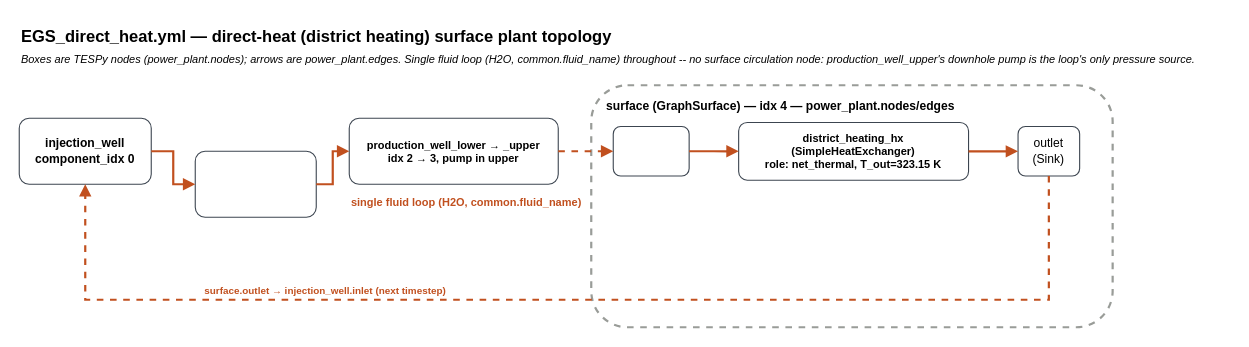
Image size: 1249x347. Some labels were removed from this diagram. Each missing label, with the centre of its shape:
inlet (Source): the point at 650,150
reservoir idx 1: the point at 255,183
